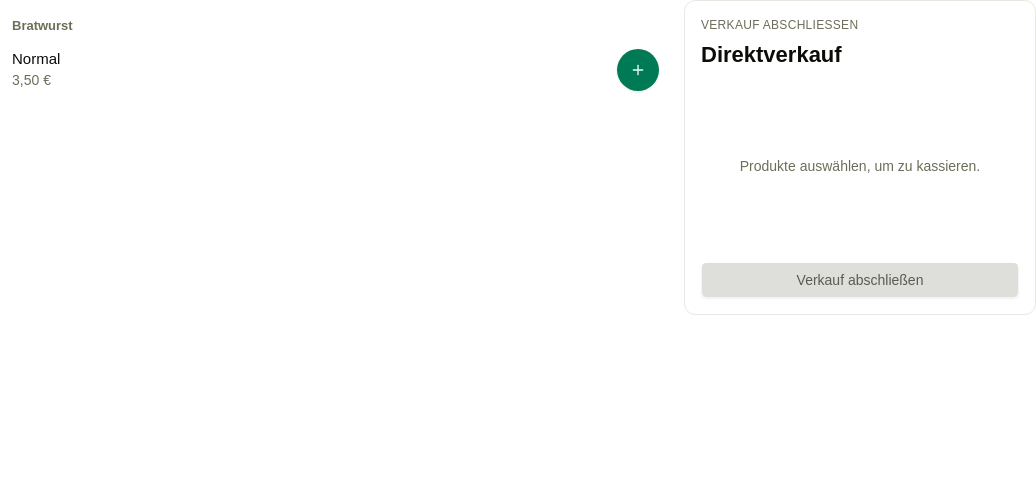
Scenario: DirektverkaufTab › rendert ab lg die feste Abschluss-Spalte statt Dock und Drawer
expect the heading "Bratwurst" is shown: met, box [12,18,73,33]
expect the button "Verkauf abschließen" is disabled: met, box [701,262,1019,298]
Note: Auswahl links aktiviert den Button rechts (gemeinsamer Mengen-State).
Click the button named "Variante hinzufügen". click: (638, 70)
box: [616,48,660,92]
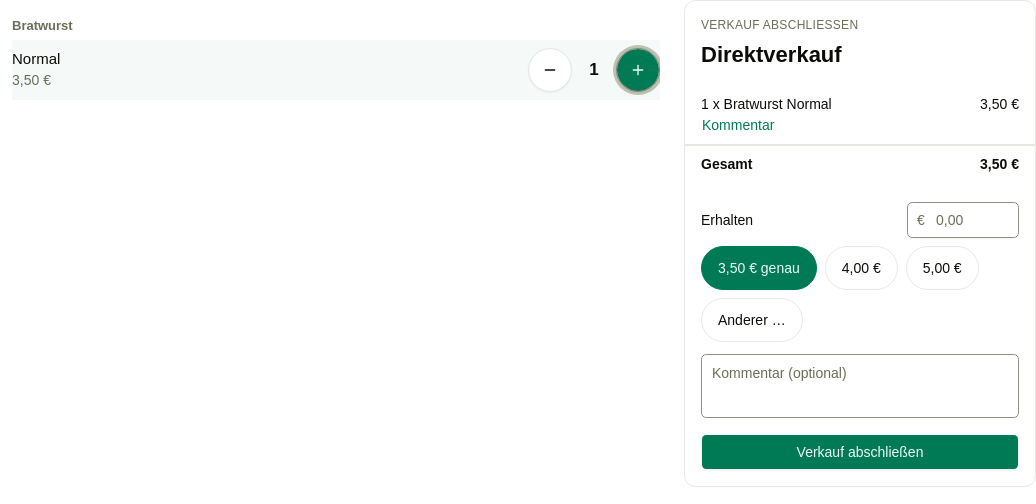
expect the button "Verkauf abschließen" is enabled: met, box [701,434,1019,470]
